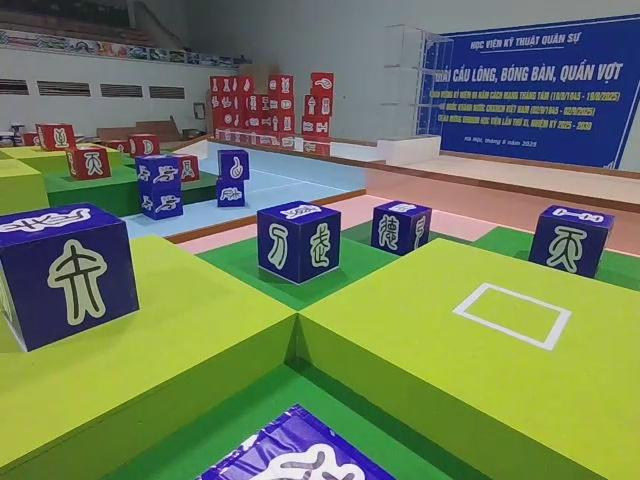R2 Fake Blue: (2, 200, 140, 354), (256, 203, 343, 288), (528, 207, 616, 283), (372, 200, 433, 257)
R2 Real Blue: (214, 148, 248, 209)
